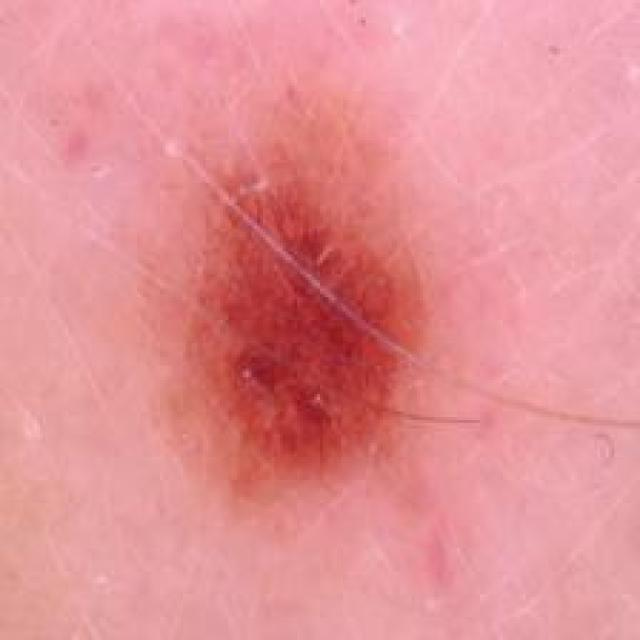Cancer: (145, 136, 441, 507)
